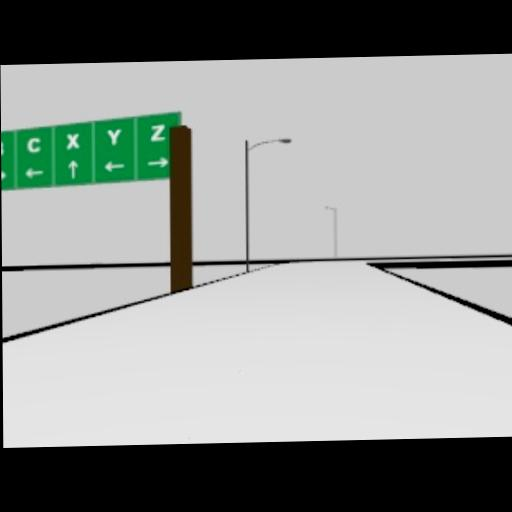C: (26, 136, 41, 153)
Left: (104, 158, 125, 171), (24, 165, 42, 177)
Right: (147, 156, 168, 167), (1, 168, 5, 180)
Straight: (67, 158, 77, 179)
X: (65, 132, 79, 149)
Y: (104, 125, 122, 144)
Z: (149, 121, 165, 140)
